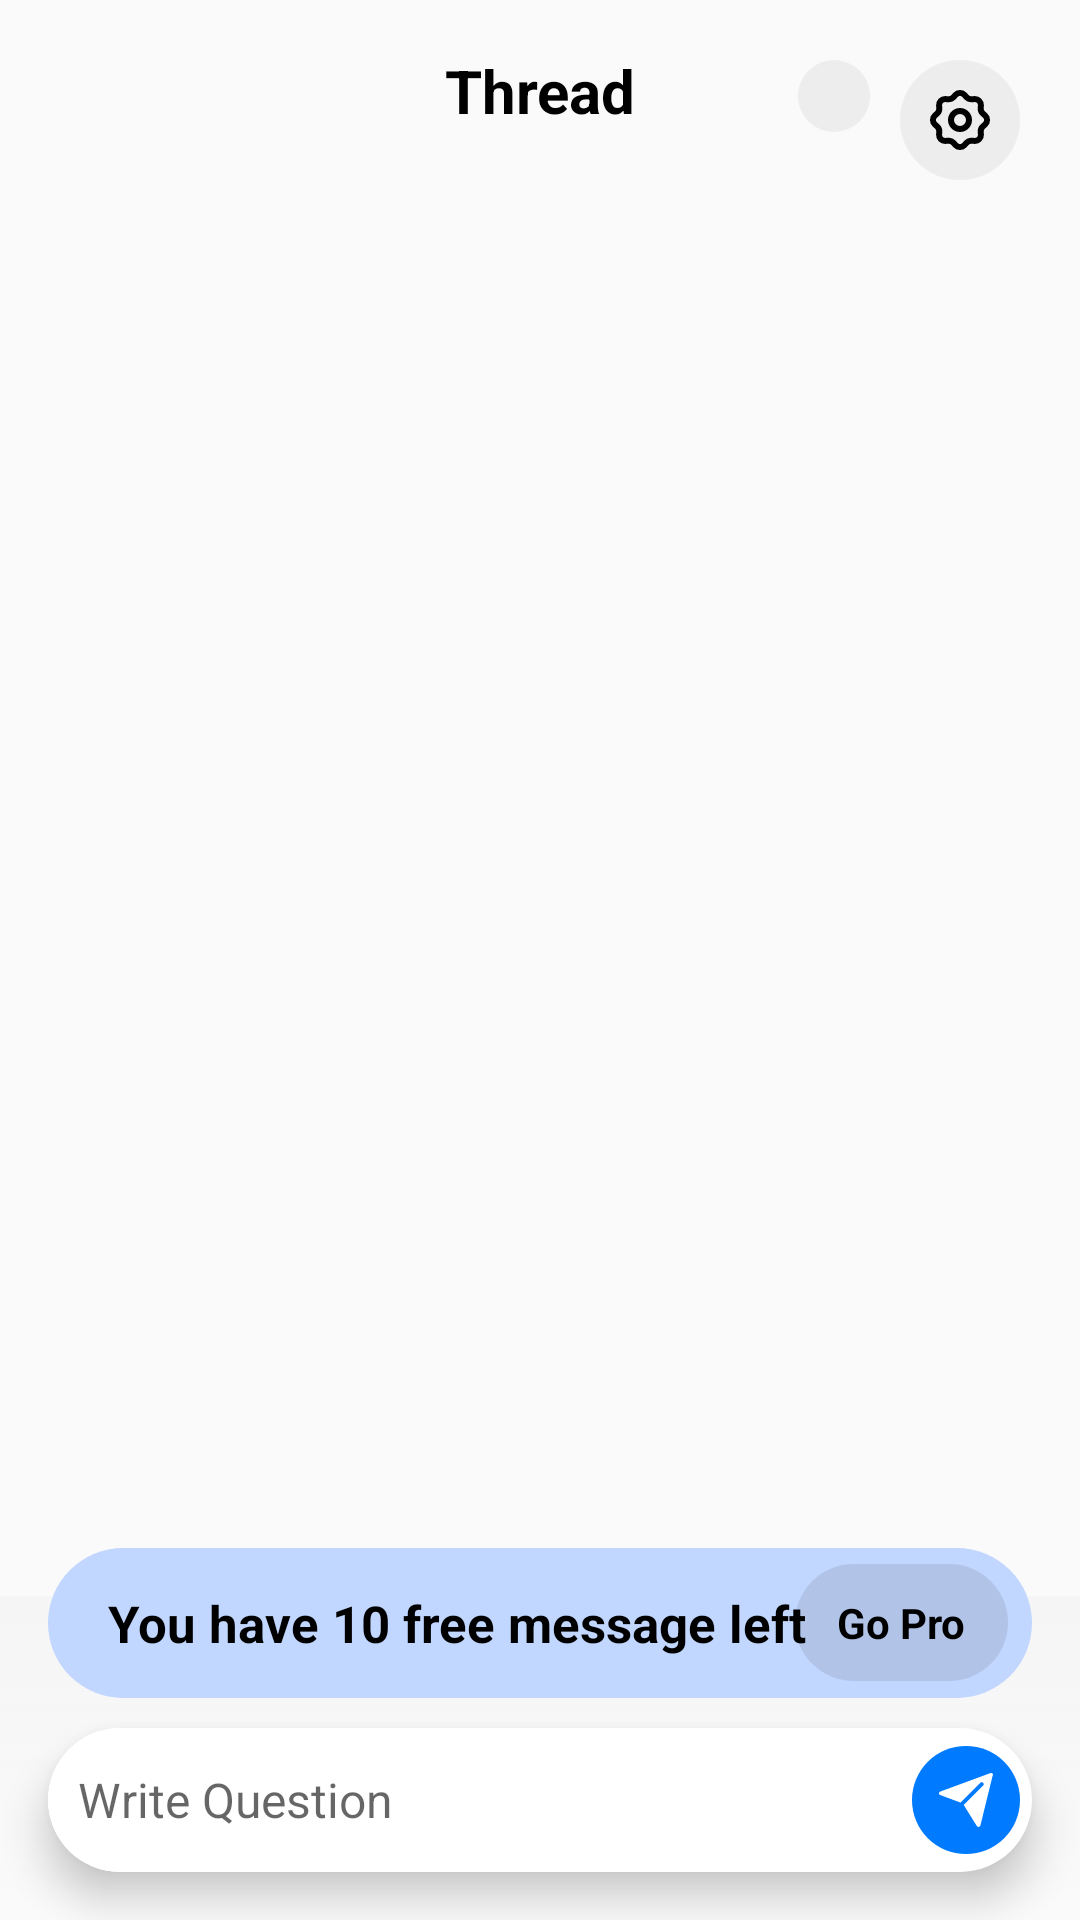

Screen size 1080w x 1920h. Icon name, then its center in pixels as [x,y]:
settings: [960,120]
